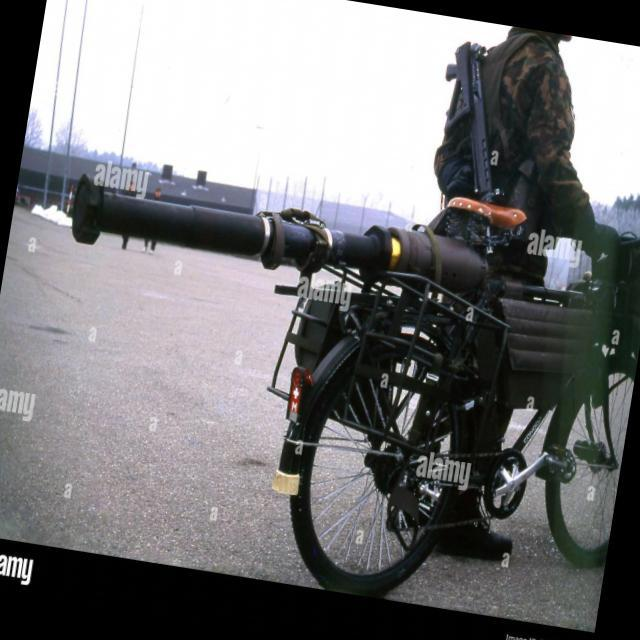rocket: (60, 157, 486, 316)
